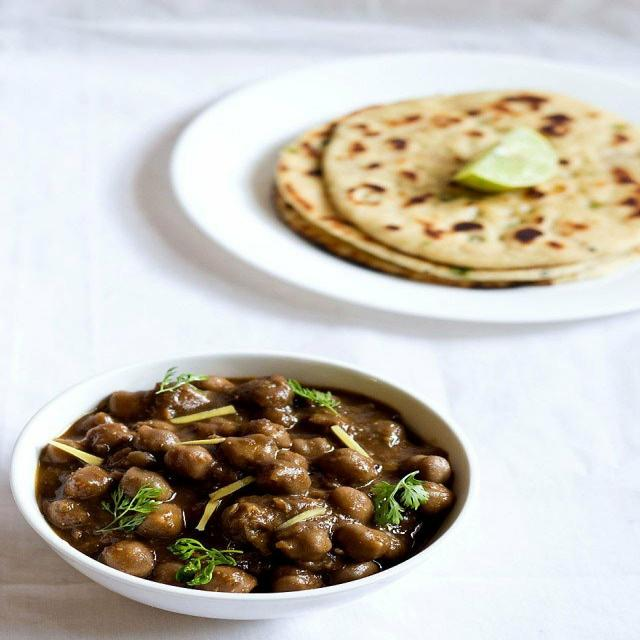Chole: (37, 373, 456, 592)
